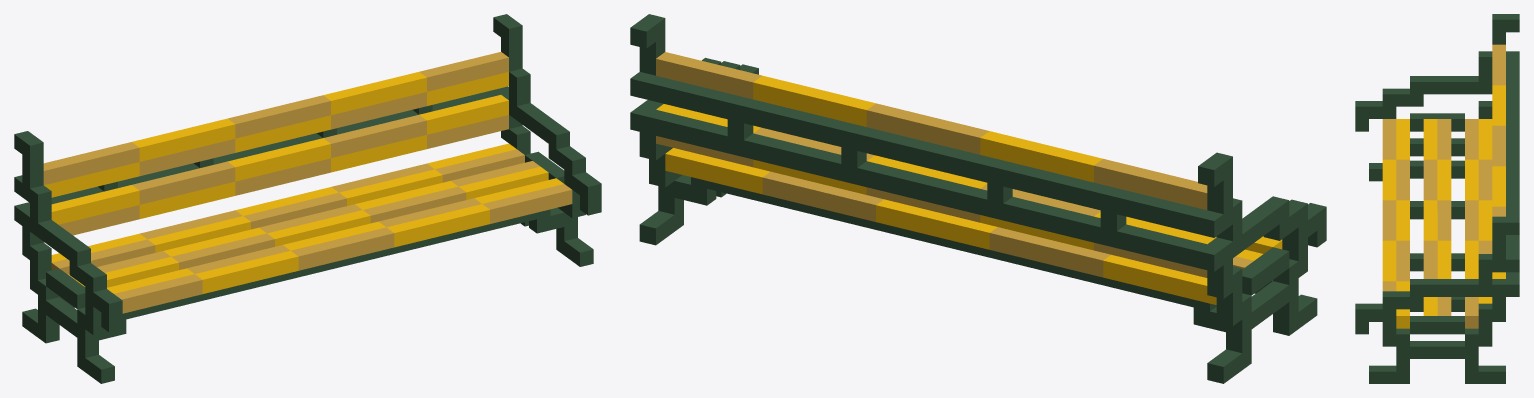
File: bench.fbx
The picture shows the model from 3 angles, left to right: view 1: azimuth 30°, elevation 25°; view 2: azimuth 150°, elevation 25°; view 3: azimuth 270°, elevation 25°; orthographic projection. The views are drawn at different scales.
Parts seen in each view (by area): view 1: bench; view 2: bench; view 3: bench.
Boxes of the visible parts, x1,y1,x2,y2 form: bench: [14, 14, 601, 383]; bench: [630, 14, 1326, 383]; bench: [1355, 14, 1519, 383].
Bounding box in the file's own units: 2 × 0.7238 × 0.6682.
Materials: 1 (1 with a texture image).
